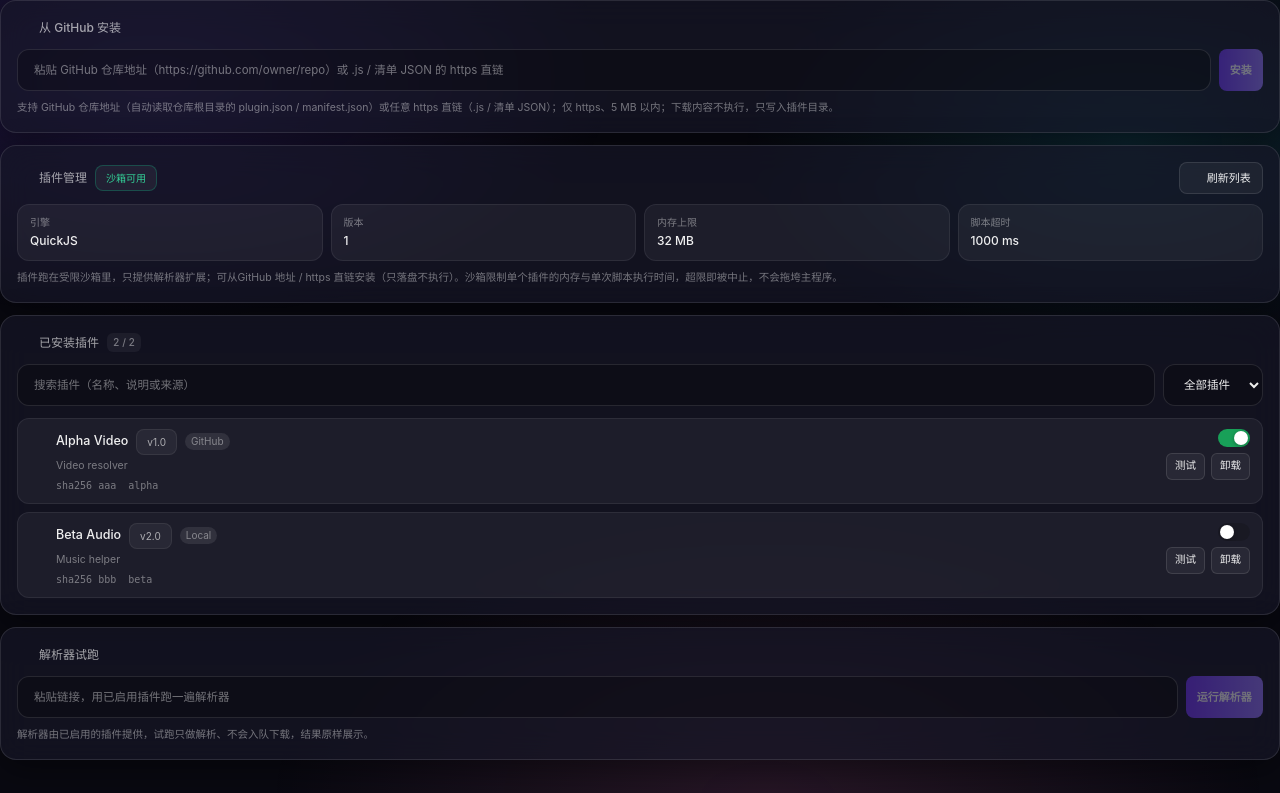
Test: Plugin manager › shows the successfully installed plugin even if reloading the list fails
Replace the text in the 1st field with "https://github.com/example/gamma" at (614, 70), box 17,49 -> 1211,91
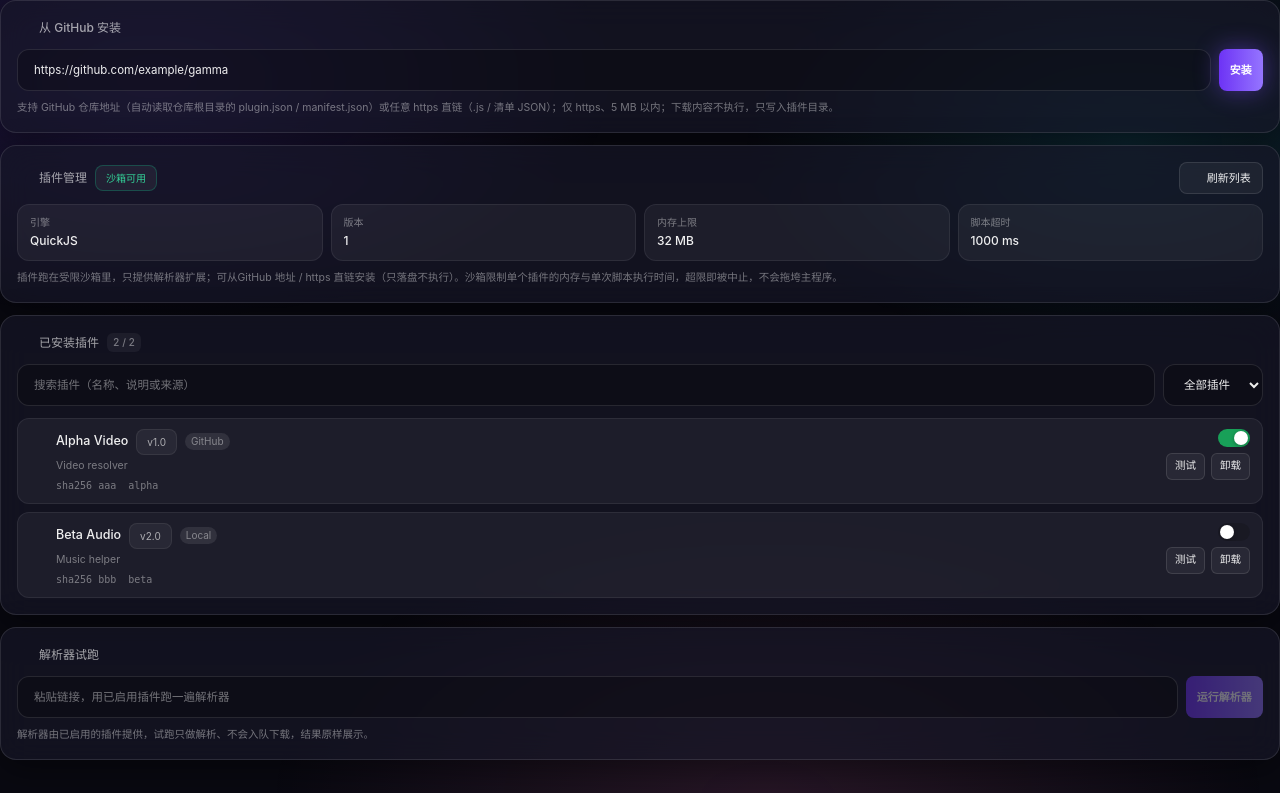
Press Enter in the 1st field, box 17,49 -> 1211,91
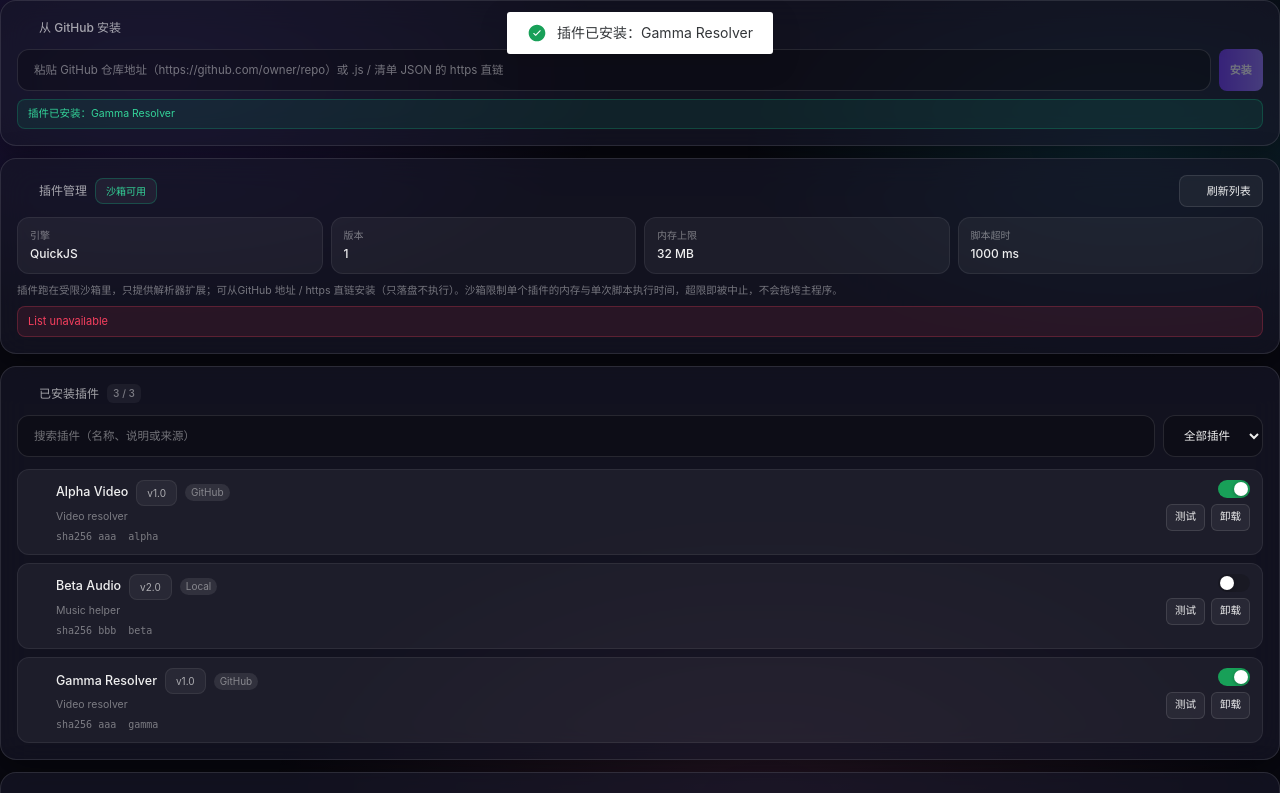
Now the element with class "umi-inner" that starts with "Gamma Resolver" is shown, box 17,657 -> 1263,743
Now the text "List unavailable" is shown, box 17,306 -> 1263,337
